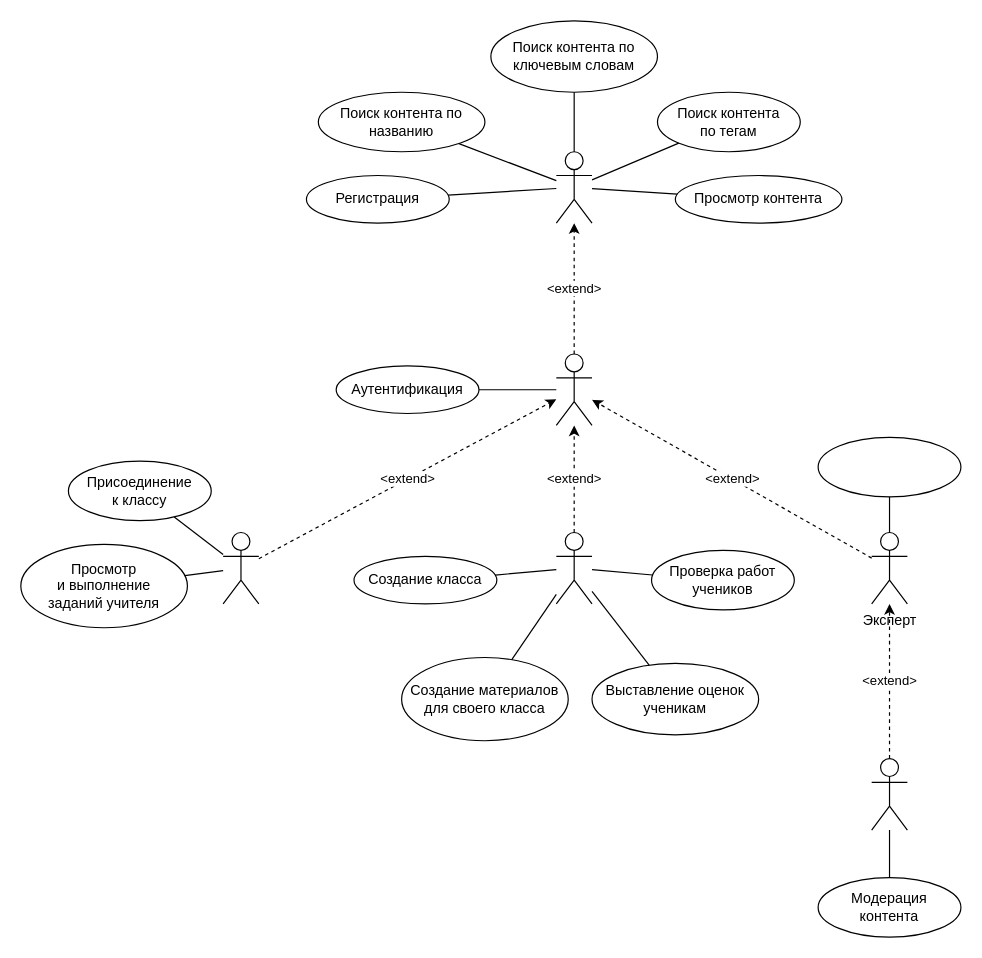
This 982x958 diagram has some shape labels left out. The centre of each missing label's shape, as x and y in pixels:
"Администратор" goes at point 888,793.
"Гость" goes at point 573,187.
"Обучающийся" goes at point 240,567.
"Пользователь" goes at point 573,389.
"Преподаватель" goes at point 573,567.
"Создание контента" goes at point 889,466.
